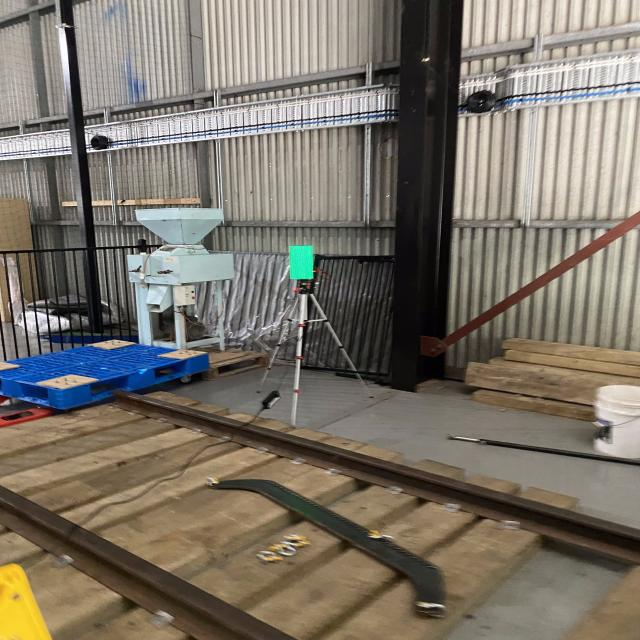matrix: (284, 243, 322, 285)
